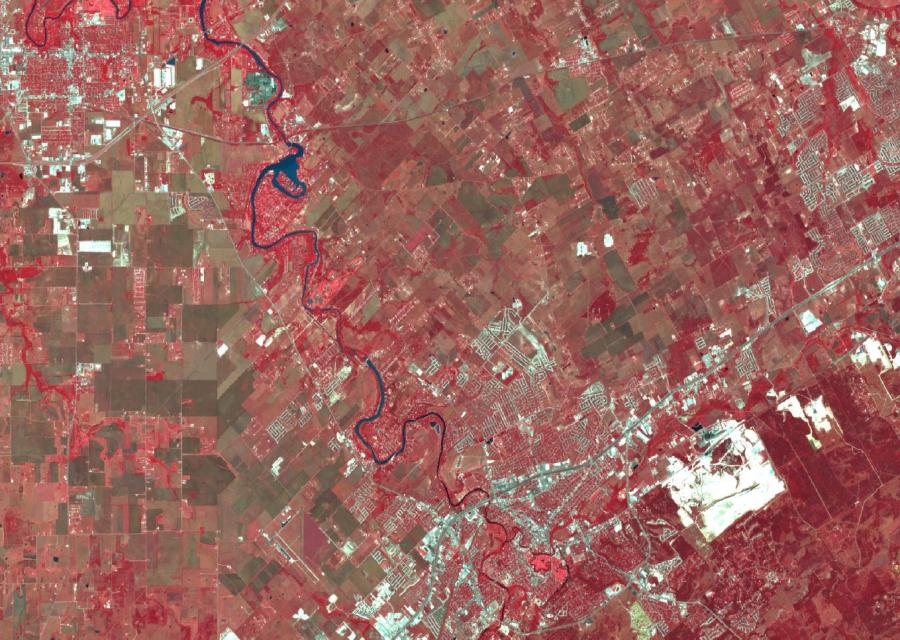Potential Lime Manufacturing Facility: (659, 415, 789, 542)
